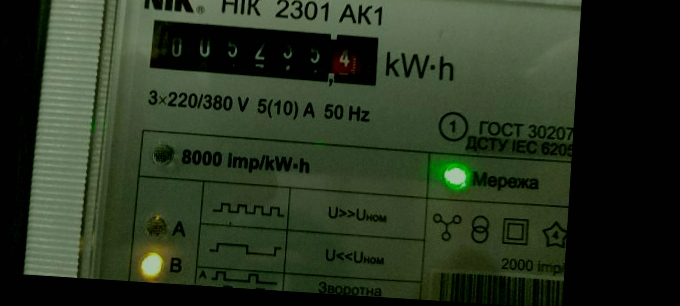0: (167, 32, 185, 59), (196, 32, 212, 58)
2: (251, 35, 267, 60)
3: (279, 34, 295, 60)
4: (336, 42, 352, 69)
5: (306, 37, 323, 65), (223, 33, 240, 60)
screen: (139, 10, 390, 94)
